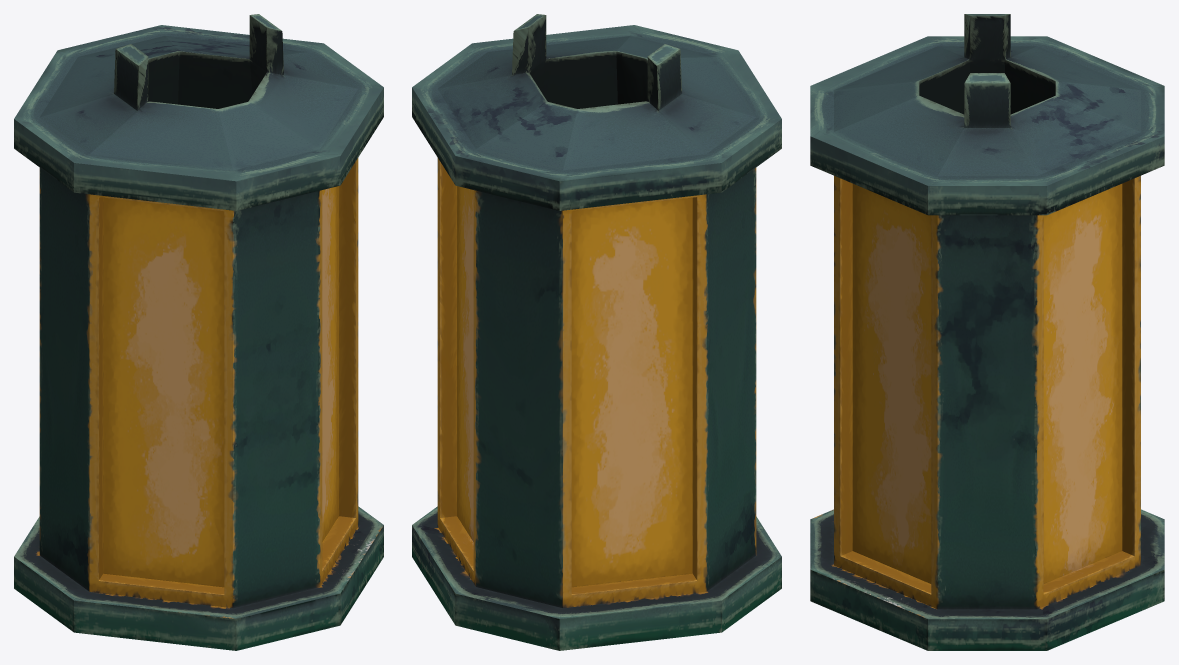
Rendered from lantern.glb.
The picture shows the model from 3 angles, left to right: view 1: azimuth 30°, elevation 25°; view 2: azimuth 150°, elevation 25°; view 3: azimuth 270°, elevation 25°; orthographic projection.
Visible parts, largest first — view 1: lantern; view 2: lantern; view 3: lantern.
Part boxes in pixels (x1,y1,x2,y2): lantern: [14, 14, 383, 650]; lantern: [412, 14, 781, 650]; lantern: [810, 14, 1164, 650].
Bounding box in the file's own units: 0.6033 × 0.9991 × 0.6033.
Materials: 1 (1 with a texture image).
